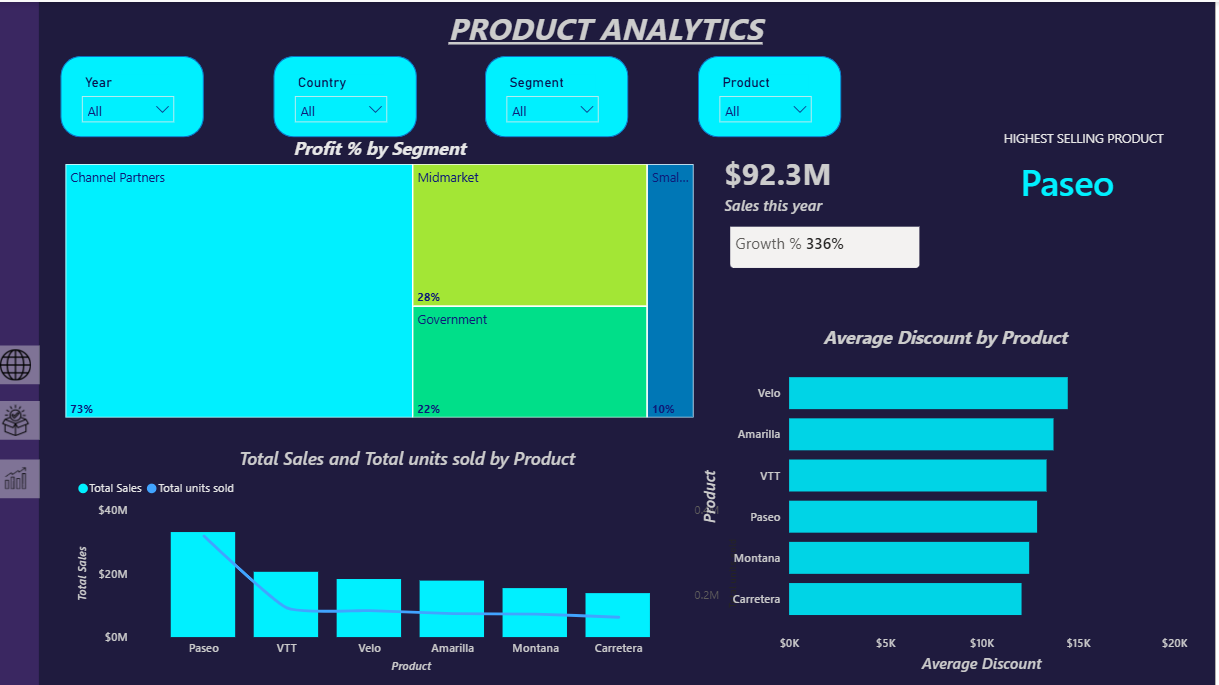

What the dashboard file says about the page in this screenshot:
{"tool":"powerbi","page":{"name":"Product Analysis","canvas":[1280,720],"ordinal":2},"visuals":[{"type":"textbox","box":[0,0,1280,54.3],"z":0},{"type":"actionButton","title":"Executive button","box":[0,480.4,45.7,41],"z":0,"group":"g5"},{"type":"shape","title":"SideBar","box":[0,0,45,720],"z":1000},{"type":"actionButton","title":"Products button","box":[0,419,45.7,41],"z":1000,"group":"g5"},{"type":"actionButton","title":"Global performance button","box":[0,360.7,45.7,41],"z":2000,"group":"g5"},{"type":"lineClusteredColumnComboChart","fields":{"Category":["Copy of Financial Sample xlsx -. Product "],"Y":["Table Measures.Total Sales"],"Y2":["Table Measures.Total units sold"]},"box":[79.8,466.3,702.9,243.3],"z":2000},{"type":"treemap","fields":{"Group":["Copy of Financial Sample xlsx -.Segment"],"Values":["Table Measures.Profit %"]},"box":[67.7,140.2,669.4,300.8],"z":3000},{"type":"group","id":"g1","title":"Group 1","box":[68.1,56.3,150.2,85.6],"z":4000},{"type":"group","id":"g2","title":"Group 1","box":[291.1,56.3,150.2,85.6],"z":5000},{"type":"group","id":"g3","title":"Group 1","box":[514.1,56.3,150.2,85.6],"z":6000},{"type":"shape","box":[68.1,56.3,150.4,85.3],"z":7000,"group":"g1"},{"type":"shape","box":[291.1,56.3,150.4,85.3],"z":7000,"group":"g2"},{"type":"shape","box":[514.1,56.3,150.4,85.3],"z":7000,"group":"g3"},{"type":"shape","box":[737.1,56.3,150.4,85.3],"z":7000,"group":"g4"},{"type":"group","id":"g4","title":"Group 1","box":[737.1,56.3,149.6,86.6],"z":7000},{"type":"slicer","fields":{"Values":["Copy of Financial Sample xlsx -.Year"]},"box":[80.3,71,116.6,57.5],"z":8000,"group":"g1"},{"type":"slicer","fields":{"Values":["Copy of Financial Sample xlsx -.Country"]},"box":[303.3,71,116.6,57.5],"z":8000,"group":"g2"},{"type":"slicer","fields":{"Values":["Copy of Financial Sample xlsx -.Segment"]},"box":[526.3,71,116.6,57.5],"z":8000,"group":"g3"},{"type":"slicer","fields":{"Values":["Copy of Financial Sample xlsx -.Product"]},"box":[749.3,71,116.6,57.5],"z":8000,"group":"g4"},{"type":"cardVisual","fields":{"Rows":["Copy of Financial Sample xlsx -.Product"]},"box":[1076.2,152,167.7,139.8],"z":8000},{"type":"textbox","box":[1008.4,127.1,271.7,37.8],"z":9000},{"type":"cardVisual","fields":{"Data":["Table Measures.YTD Sales"]},"box":[758.2,155.5,225.4,136.3],"z":10000},{"type":"barChart","fields":{"Category":["Copy of Financial Sample xlsx -.Product"],"Y":["Table Measures.Average Discount"]},"box":[737.3,338.9,518.9,370.4],"z":11000},{"type":"group","id":"g5","title":"Navigator Buttons","box":[0,360.7,45.7,160.7],"z":11001}]}

Visuals, with their boxes in screenshot pixels (x1, y1, x2, y2), scaled from the page's 1280x720 canvas onto the 1219x685 screenshot:
textbox: (0,0,1218,52)
"Executive button" actionButton: (0,457,44,496)
"SideBar" shape: (0,0,43,684)
"Products button" actionButton: (0,399,44,438)
"Global performance button" actionButton: (0,343,44,382)
lineClusteredColumnComboChart - Copy of Financial Sample xlsx -. Product  x Table Measures.Total Sales: (76,444,745,675)
treemap - Copy of Financial Sample xlsx -.Segment x Table Measures.Profit %: (64,133,702,420)
"Group 1" group: (65,54,208,135)
"Group 1" group: (277,54,420,135)
"Group 1" group: (490,54,633,135)
shape: (65,54,208,135)
shape: (277,54,420,135)
shape: (490,54,633,135)
shape: (702,54,845,135)
"Group 1" group: (702,54,844,136)
slicer - Copy of Financial Sample xlsx -.Year: (76,68,188,122)
slicer - Copy of Financial Sample xlsx -.Country: (289,68,400,122)
slicer - Copy of Financial Sample xlsx -.Segment: (501,68,612,122)
slicer - Copy of Financial Sample xlsx -.Product: (714,68,825,122)
cardVisual - Copy of Financial Sample xlsx -.Product: (1025,145,1185,278)
textbox: (960,121,1218,157)
cardVisual - Table Measures.YTD Sales: (722,148,937,278)
barChart - Copy of Financial Sample xlsx -.Product x Table Measures.Average Discount: (702,322,1196,675)
"Navigator Buttons" group: (0,343,44,496)
